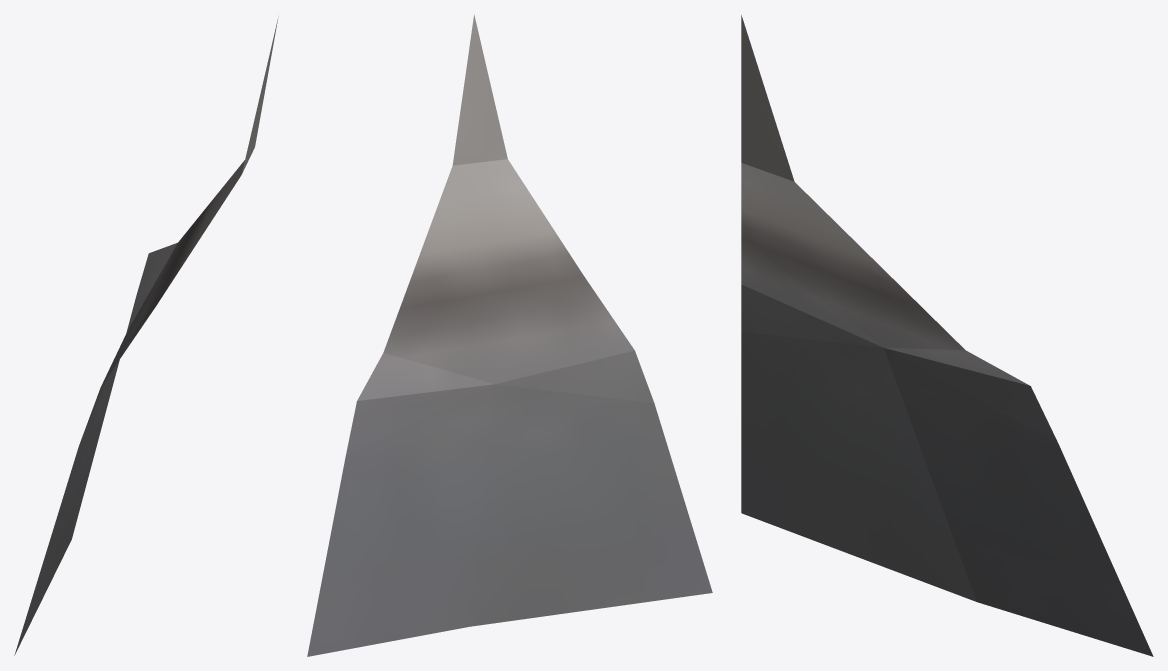
3 views of the same model, side by side, from view 1: azimuth 30°, elevation 25°; view 2: azimuth 150°, elevation 25°; view 3: azimuth 270°, elevation 25° (orthographic). The views are drawn at different scales.
Size of the model in its own units: 0.0355 by 0.074 by 0.043.
Materials: 1 (1 with a texture image).
